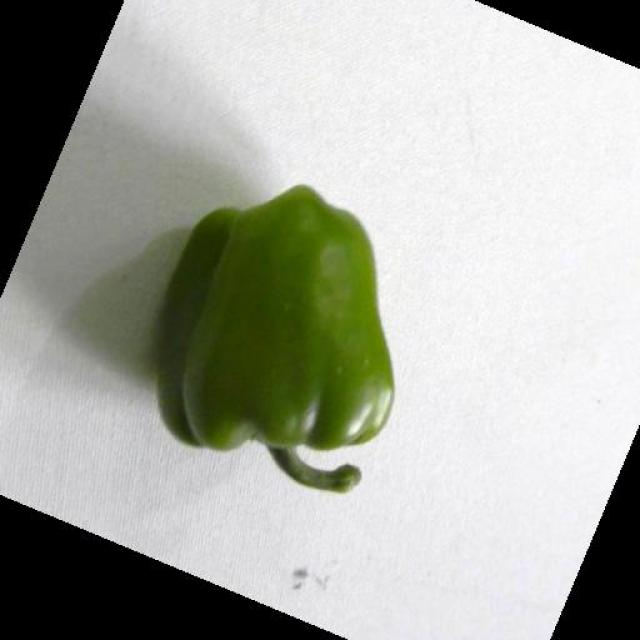Fresh_Capsicum: (171, 172, 438, 522)
